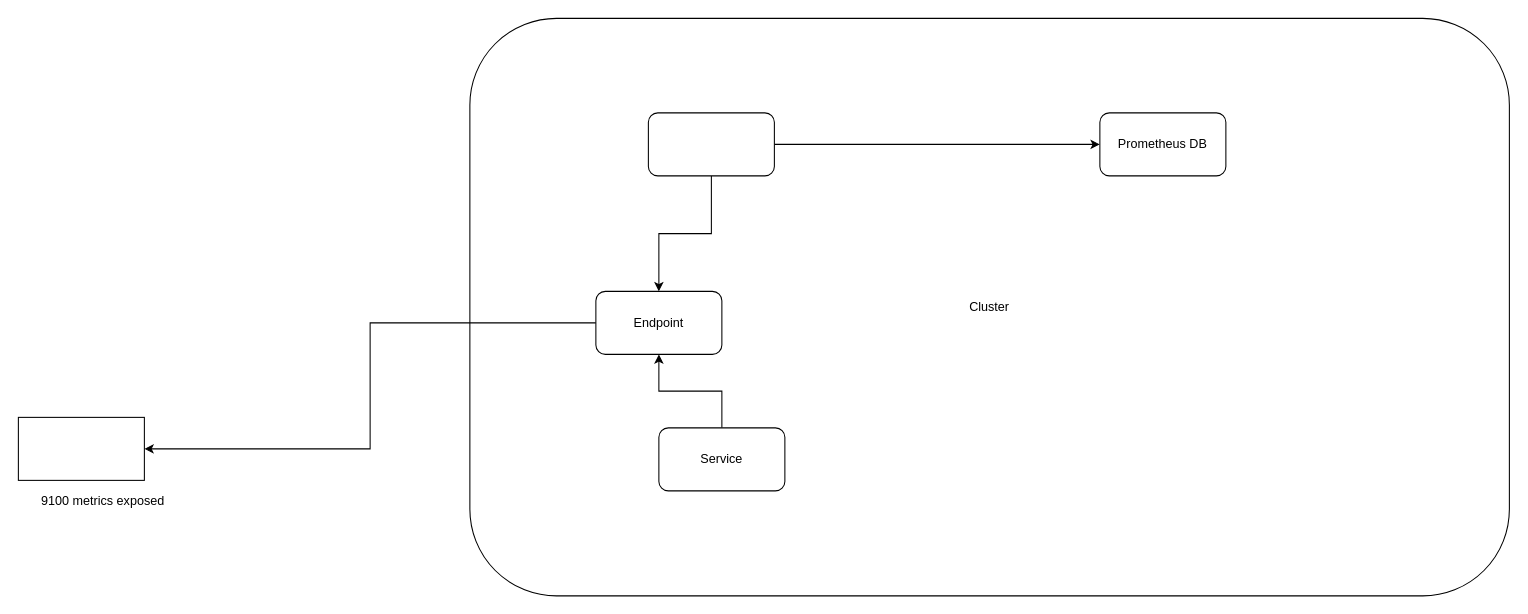
The diagram is 1528 pixels wide and 614 high, and some of its shapes have lost their labels. The shapes that lost their labels are listed below. From the top down, each one's box as (x1, y1, x2, y2) in pixels, then its label:
(647, 112, 774, 176): ServiceMonitor
(17, 416, 144, 480): NFS Server
